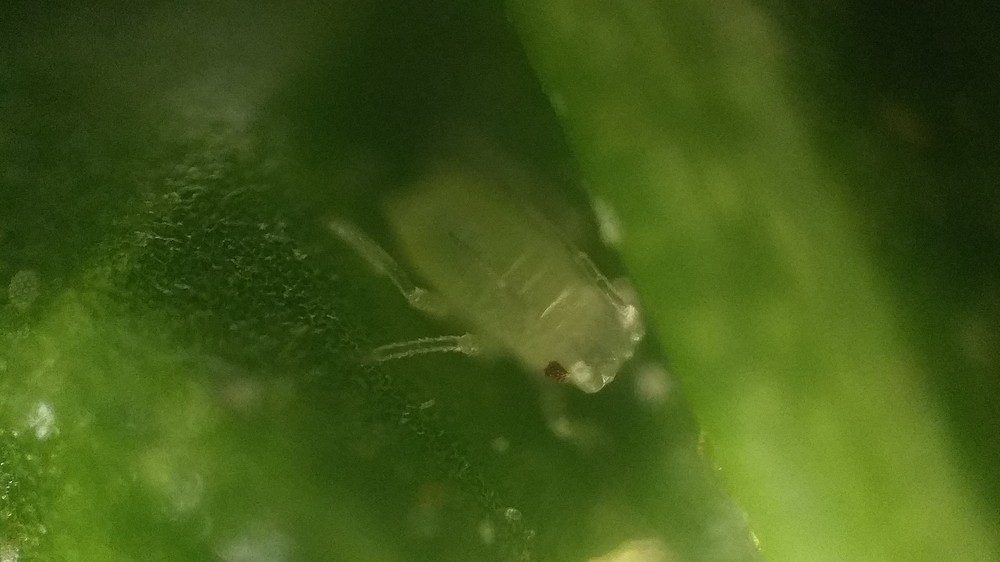Pulgon: (321, 123, 692, 481)
